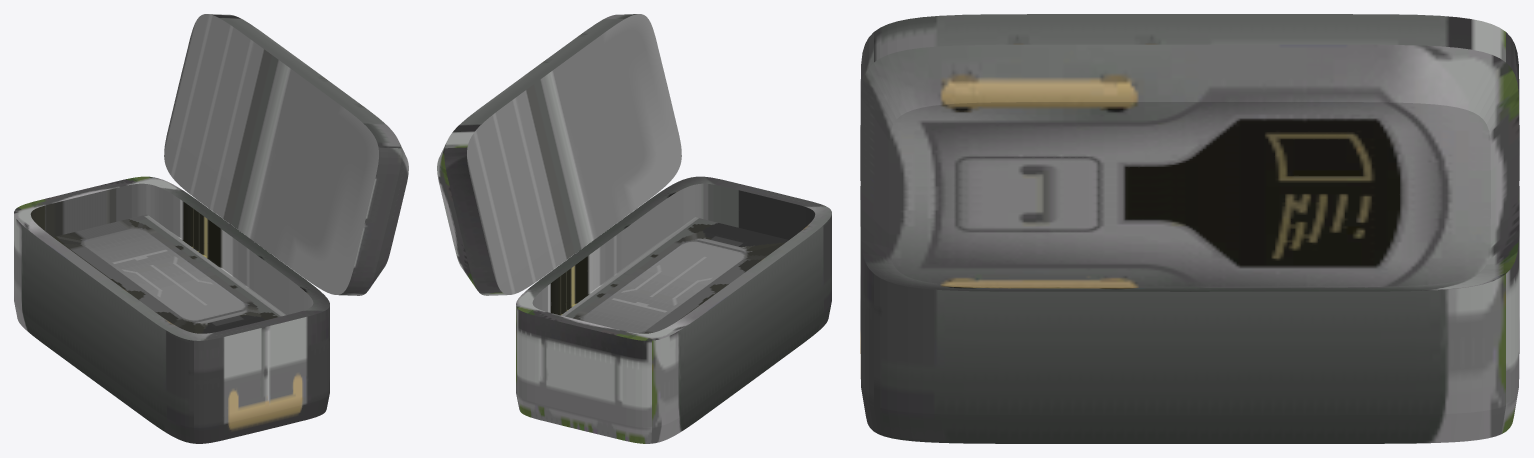
Rendered from Building_CryptosleepCasket__Open.glb.
3 views of the same model, side by side, from view 1: azimuth 30°, elevation 25°; view 2: azimuth 150°, elevation 25°; view 3: azimuth 270°, elevation 25° (orthographic). The views are drawn at different scales.
Visible parts, largest first — view 1: CryptosleepCasket; view 2: CryptosleepCasket; view 3: CryptosleepCasket.
Boxes of the visible parts, x1,y1,x2,y2 form: CryptosleepCasket: (14, 14, 408, 443); CryptosleepCasket: (437, 14, 831, 443); CryptosleepCasket: (860, 14, 1519, 443).
Bounding box in the file's own units: 1.42 × 1.52 × 1.94.
Materials: 1 (1 with a texture image).
